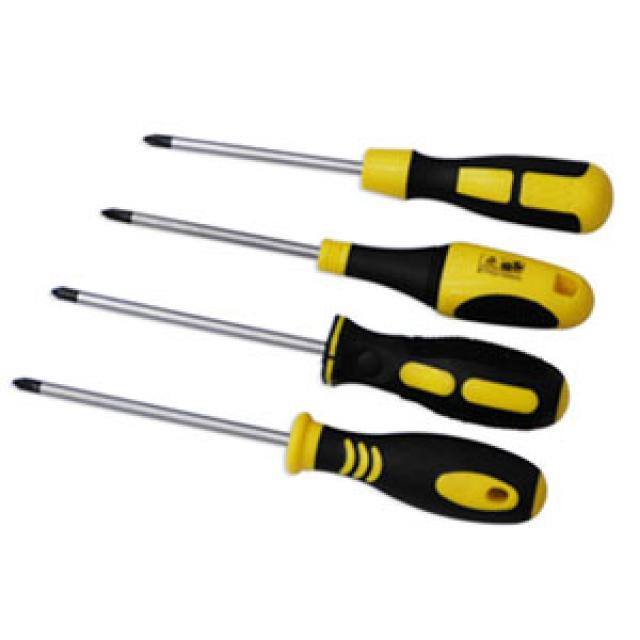screw_driver: (14, 379, 545, 522), (52, 288, 569, 428), (102, 211, 594, 327), (144, 136, 612, 232)
